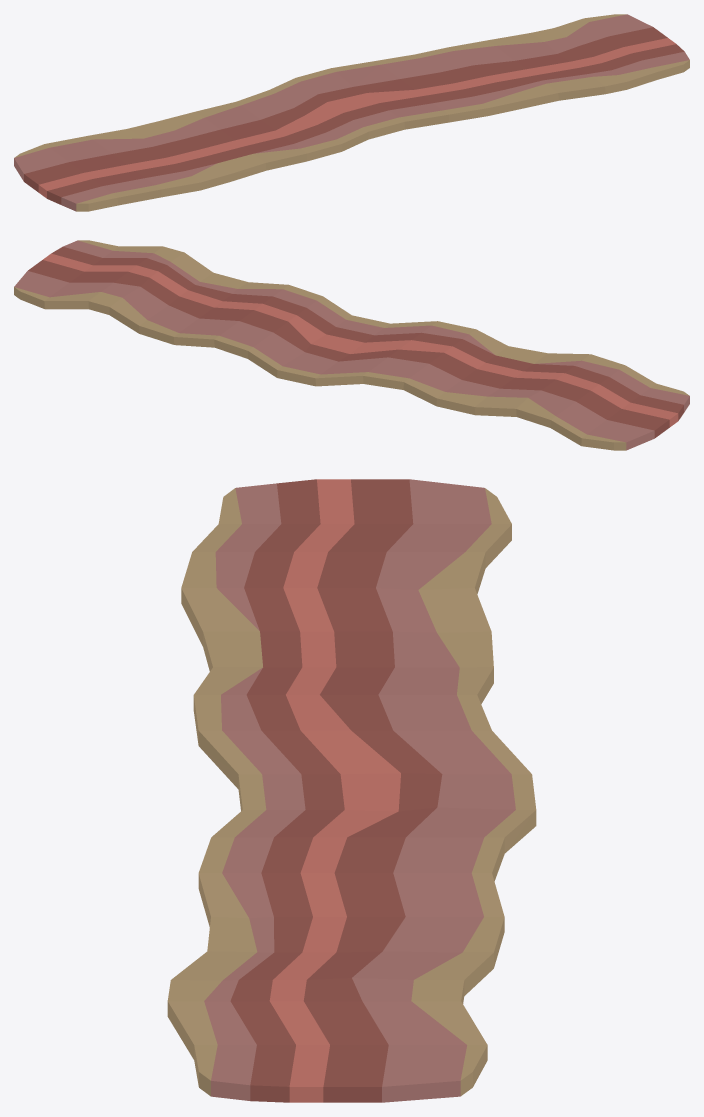
File: Bacon_Uncooked.glb
The picture shows the model from 3 angles, top to bottom: view 1: azimuth 30°, elevation 25°; view 2: azimuth 150°, elevation 25°; view 3: azimuth 270°, elevation 25°; orthographic projection. The views are drawn at different scales.
Parts seen in each view (by area): view 1: Bacon_Uncooked; view 2: Bacon_Uncooked; view 3: Bacon_Uncooked.
Part boxes in pixels (x1,y1,x2,y2): Bacon_Uncooked: [14, 14, 689, 211]; Bacon_Uncooked: [14, 240, 689, 450]; Bacon_Uncooked: [167, 479, 536, 1102].
Bounding box in the file's own units: 1.16 × 0.0213 × 0.2968.
